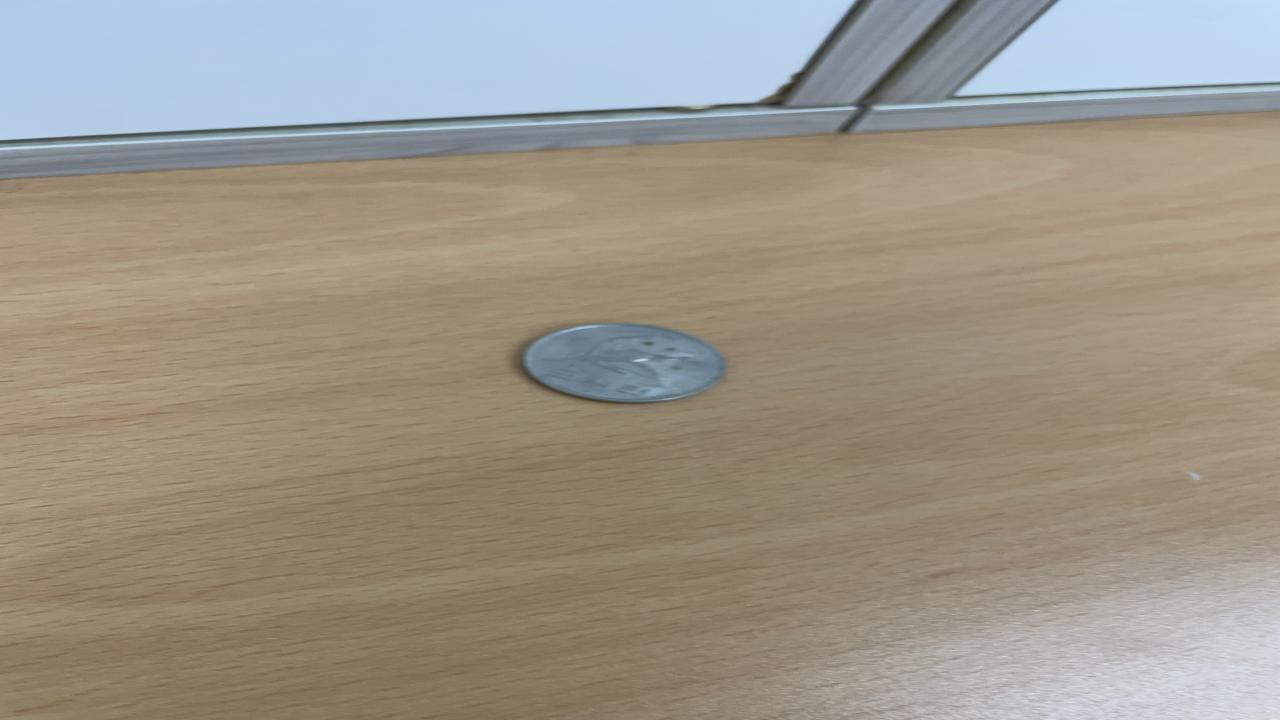coin: (518, 322, 732, 403)
